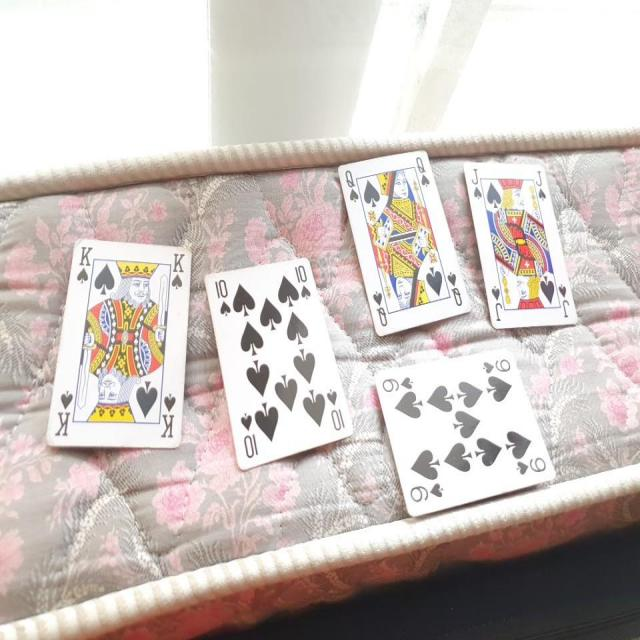10 Spades: (200, 241, 357, 478)
9 Spades: (362, 342, 562, 513)
J Spades: (461, 151, 580, 336)
K Spades: (44, 235, 195, 463)
Q Spades: (331, 141, 472, 344)
